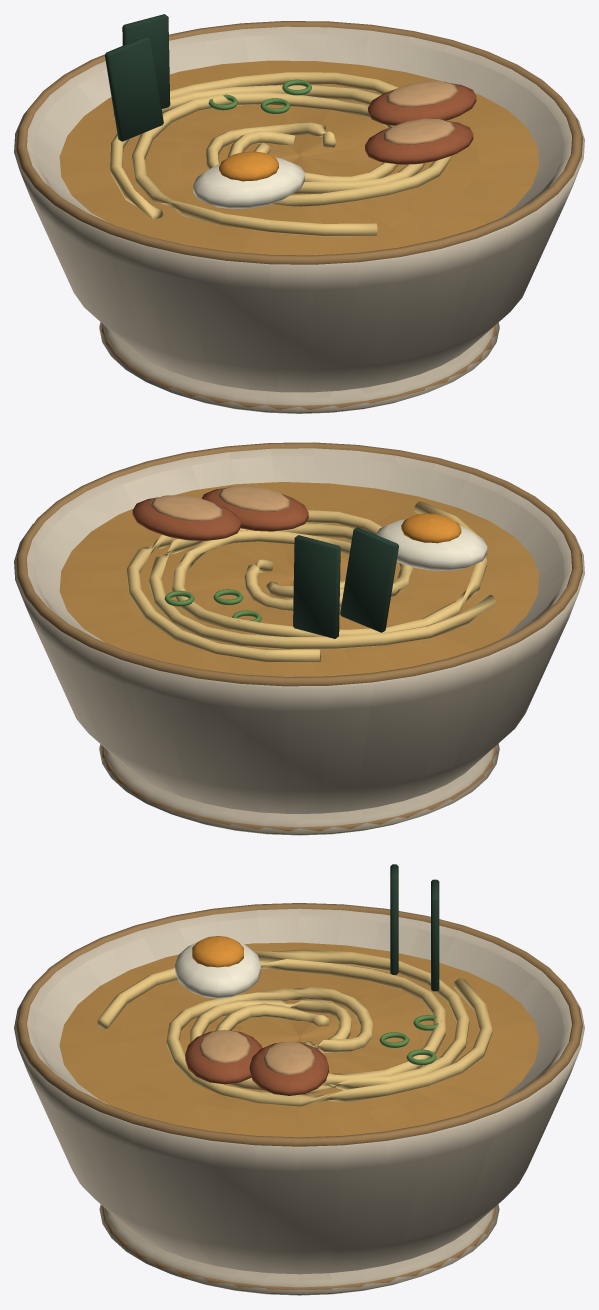
File: ramen.glb
The picture shows the model from 3 angles, top to bottom: view 1: azimuth 30°, elevation 25°; view 2: azimuth 150°, elevation 25°; view 3: azimuth 270°, elevation 25°; orthographic projection.
Visible parts, largest first — view 1: Shared_ivory_bowl, Golden_ramen_broth, Cream_inner_bowl, Thin_antique_brass_rim, Short_stable_pedestal, Golden_noodle_swirl_2, Golden_noodle_swirl_0, Golden_noodle_swirl_1, Upright_nori_0, Halved_egg_white, Char_siu_pork_0, Char_siu_pork_1 (+5 smaller); view 2: Shared_ivory_bowl, Golden_ramen_broth, Cream_inner_bowl, Thin_antique_brass_rim, Short_stable_pedestal, Golden_noodle_swirl_1, Golden_noodle_swirl_0, Golden_noodle_swirl_2, Upright_nori_1, Upright_nori_0, Halved_egg_white, Char_siu_pork_1 (+5 smaller); view 3: Shared_ivory_bowl, Golden_ramen_broth, Cream_inner_bowl, Thin_antique_brass_rim, Golden_noodle_swirl_0, Short_stable_pedestal, Golden_noodle_swirl_1, Golden_noodle_swirl_2, Halved_egg_white, Char_siu_pork_1, Char_siu_pork_0, Pedestal_brass_trace (+5 smaller).
Boxes of the visible parts, box(x1,y1,x2,y2) form: Shared_ivory_bowl: box(14, 26, 584, 392); Golden_ramen_broth: box(59, 60, 539, 255); Cream_inner_bowl: box(35, 34, 563, 221); Thin_antique_brass_rim: box(16, 21, 582, 264); Short_stable_pedestal: box(99, 322, 499, 413); Golden_noodle_swirl_2: box(132, 92, 398, 236); Golden_noodle_swirl_0: box(113, 72, 450, 206); Golden_noodle_swirl_1: box(110, 85, 424, 219); Upright_nori_0: box(105, 36, 163, 141); Halved_egg_white: box(193, 157, 304, 209); Char_siu_pork_0: box(365, 121, 473, 164); Char_siu_pork_1: box(368, 83, 476, 125); Shared_ivory_bowl: box(14, 448, 584, 813); Golden_ramen_broth: box(59, 482, 539, 676); Cream_inner_bowl: box(35, 456, 563, 642); Thin_antique_brass_rim: box(16, 442, 582, 686); Short_stable_pedestal: box(99, 743, 499, 835); Golden_noodle_swirl_1: box(148, 523, 496, 649); Golden_noodle_swirl_0: box(127, 510, 412, 662); Golden_noodle_swirl_2: box(172, 501, 487, 636); Upright_nori_1: box(293, 535, 340, 638); Upright_nori_0: box(340, 527, 398, 632); Halved_egg_white: box(376, 519, 487, 570); Char_siu_pork_1: box(132, 497, 241, 540); Shared_ivory_bowl: box(14, 908, 584, 1274); Golden_ramen_broth: box(59, 942, 539, 1137); Cream_inner_bowl: box(35, 916, 563, 1104); Thin_antique_brass_rim: box(16, 903, 582, 1146); Golden_noodle_swirl_0: box(166, 978, 492, 1106); Short_stable_pedestal: box(99, 1204, 499, 1295); Golden_noodle_swirl_1: box(190, 949, 469, 1093); Golden_noodle_swirl_2: box(97, 959, 445, 1084); Halved_egg_white: box(175, 942, 260, 998); Char_siu_pork_1: box(249, 1042, 328, 1095); Char_siu_pork_0: box(185, 1030, 262, 1084); Pedestal_brass_trace: box(102, 1206, 496, 1289).
Size of the model in its own units: 0.842 by 0.4695 by 0.842.
